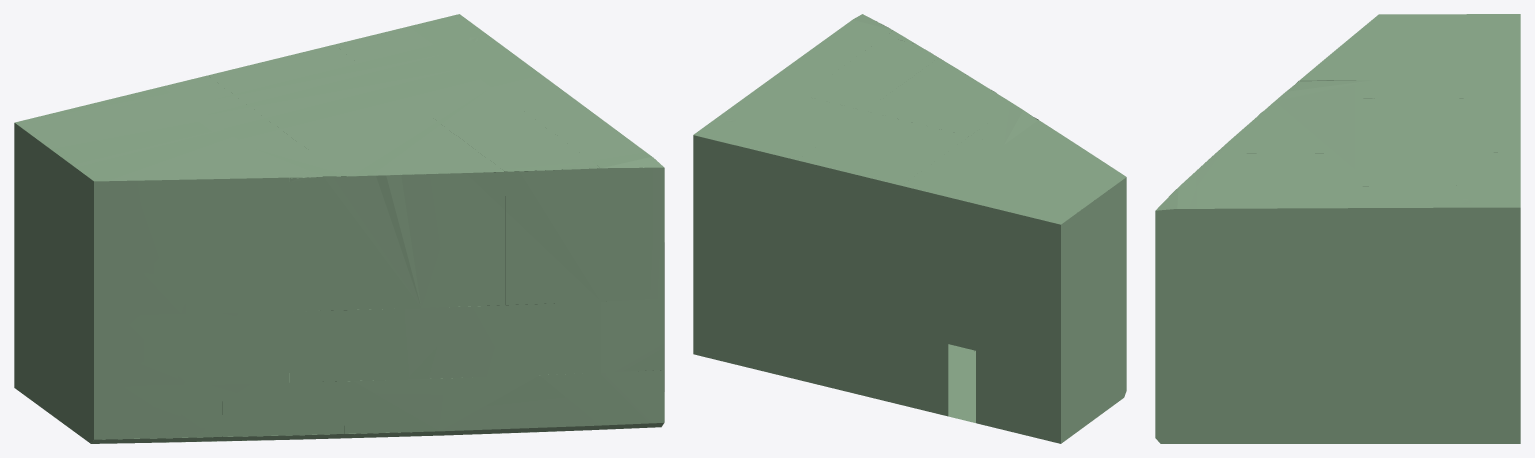
The model's file is ROPE_STORE_SB.glb.
3 views of the same model, side by side, from view 1: azimuth 30°, elevation 25°; view 2: azimuth 150°, elevation 25°; view 3: azimuth 270°, elevation 25° (orthographic). The views are drawn at different scales.
Visible parts, largest first — view 1: PL_OuterShellxAPTS_014003-18.5_NVA_1993, PL_OuterShellxAPTS_014001-18.5_NVA_1993, PL_OuterShellxAPTS_013005-18.5_NVA_1993, PL_UDxAPTS_005003-12_NVA_1993, PL_UDxAPTS_006003-12_NVA_1993, PL_OuterShellxAPTS_013006-18.5_NVA_1993, PL_OuterShellxAPTS_001001-18.5_NVA_1993, PL_OuterShellxAPTS_013001-18.5_NVA_1993, PL_UDxAPTS_010001-12_NVA_1993, PL_OuterShellxAPTS_013002-18.5_NVA_1993, PL_OuterShellxAPTS_014005-18.5_NVA_1993, PL_UDxAPTS_006005-12_NVA_1993 (+10 smaller); view 2: PL_No8LBHDxAPTS_009003-10_NVA_1993, PL_UDxAPTS_005003-12_NVA_1993, PL_UDxAPTS_006003-12_NVA_1993, PL_OuterShellxAPTS_001001-18.5_NVA_1993, PL_No8LBHDxAPTS_013006-10_NVA_1993, PL_No8LBHDxAPTS_013007-10_NVA_1993, PL_No8LBHDxAPTS_012001-10_NVA_1993, PL_UDxAPTS_010001-12_NVA_1993, PL_No8LBHDxAPTS_009001-10_NVA_1993, PL_No8LBHDxAPTS_009005-10_NVA_1993, PL_No8LBHDxAPTS_011001-12.5_NVA_1993, PL_No8LBHDxAPTS_011002-12.5_NVA_1993 (+15 smaller); view 3: PL_SideTransxFR6S_003001-11_NVA_1993, PL_SideTransxFR6S_001001-11_NVA_1993, PL_UDxAPTS_005003-12_NVA_1993, PL_UDxAPTS_006003-12_NVA_1993, PL_SideTransxFR6S_002002-11_NVA_1993, PL_SideTransxFR6S_002001-11_NVA_1993, PL_UDxAPTS_010001-12_NVA_1993, PL_SideTransxFR6S_001002-11_NVA_1993, PL_UDxAPTS_006005-12_NVA_1993, PL_UDxAPTS_010005-12_NVA_1993, PL_UDxAPTS_011001-12_NVA_1993, PL_UDxAPTS_012003-12_NVA_1993.
Boxes of the visible parts, bbox=[...] form: PL_OuterShellxAPTS_014003-18.5_NVA_1993: bbox=[289, 168, 600, 311]; PL_OuterShellxAPTS_014001-18.5_NVA_1993: bbox=[94, 177, 289, 315]; PL_OuterShellxAPTS_013005-18.5_NVA_1993: bbox=[289, 302, 600, 382]; PL_UDxAPTS_005003-12_NVA_1993: bbox=[166, 26, 491, 146]; PL_UDxAPTS_006003-12_NVA_1993: bbox=[248, 87, 590, 178]; PL_OuterShellxAPTS_013006-18.5_NVA_1993: bbox=[289, 372, 600, 435]; PL_OuterShellxAPTS_001001-18.5_NVA_1993: bbox=[14, 123, 93, 369]; PL_OuterShellxAPTS_013001-18.5_NVA_1993: bbox=[94, 311, 289, 386]; PL_UDxAPTS_010001-12_NVA_1993: bbox=[15, 85, 247, 181]; PL_OuterShellxAPTS_013002-18.5_NVA_1993: bbox=[94, 382, 289, 439]; PL_OuterShellxAPTS_014005-18.5_NVA_1993: bbox=[601, 167, 664, 301]; PL_UDxAPTS_006005-12_NVA_1993: bbox=[492, 75, 640, 160]; PL_No8LBHDxAPTS_009003-10_NVA_1993: bbox=[735, 145, 935, 314]; PL_UDxAPTS_005003-12_NVA_1993: bbox=[735, 96, 1003, 193]; PL_UDxAPTS_006003-12_NVA_1993: bbox=[803, 36, 1037, 144]; PL_OuterShellxAPTS_001001-18.5_NVA_1993: bbox=[1061, 177, 1126, 394]; PL_No8LBHDxAPTS_013006-10_NVA_1993: bbox=[735, 266, 935, 364]; PL_No8LBHDxAPTS_013007-10_NVA_1993: bbox=[735, 315, 935, 413]; PL_No8LBHDxAPTS_012001-10_NVA_1993: bbox=[990, 207, 1060, 345]; PL_UDxAPTS_010001-12_NVA_1993: bbox=[936, 145, 1126, 224]; PL_No8LBHDxAPTS_009001-10_NVA_1993: bbox=[936, 194, 989, 328]; PL_No8LBHDxAPTS_009005-10_NVA_1993: bbox=[698, 136, 734, 265]; PL_No8LBHDxAPTS_011001-12.5_NVA_1993: bbox=[990, 328, 1060, 394]; PL_No8LBHDxAPTS_011002-12.5_NVA_1993: bbox=[990, 377, 1060, 443]; PL_SideTransxFR6S_003001-11_NVA_1993: bbox=[1257, 207, 1520, 337]; PL_SideTransxFR6S_001001-11_NVA_1993: bbox=[1155, 208, 1256, 390]; PL_UDxAPTS_005003-12_NVA_1993: bbox=[1373, 79, 1520, 185]; PL_UDxAPTS_006003-12_NVA_1993: bbox=[1196, 80, 1373, 186]; PL_SideTransxFR6S_002002-11_NVA_1993: bbox=[1257, 391, 1520, 443]; PL_SideTransxFR6S_002001-11_NVA_1993: bbox=[1257, 338, 1520, 390]; PL_UDxAPTS_010001-12_NVA_1993: bbox=[1373, 14, 1520, 80]; PL_SideTransxFR6S_001002-11_NVA_1993: bbox=[1155, 391, 1256, 443]; PL_UDxAPTS_006005-12_NVA_1993: bbox=[1196, 186, 1373, 208]; PL_UDxAPTS_010005-12_NVA_1993: bbox=[1373, 185, 1520, 207]; PL_UDxAPTS_011001-12_NVA_1993: bbox=[1299, 19, 1373, 80]; PL_UDxAPTS_012003-12_NVA_1993: bbox=[1156, 187, 1196, 210].
Size of the model in its own units: 10.6 by 6.04 by 8.46.
